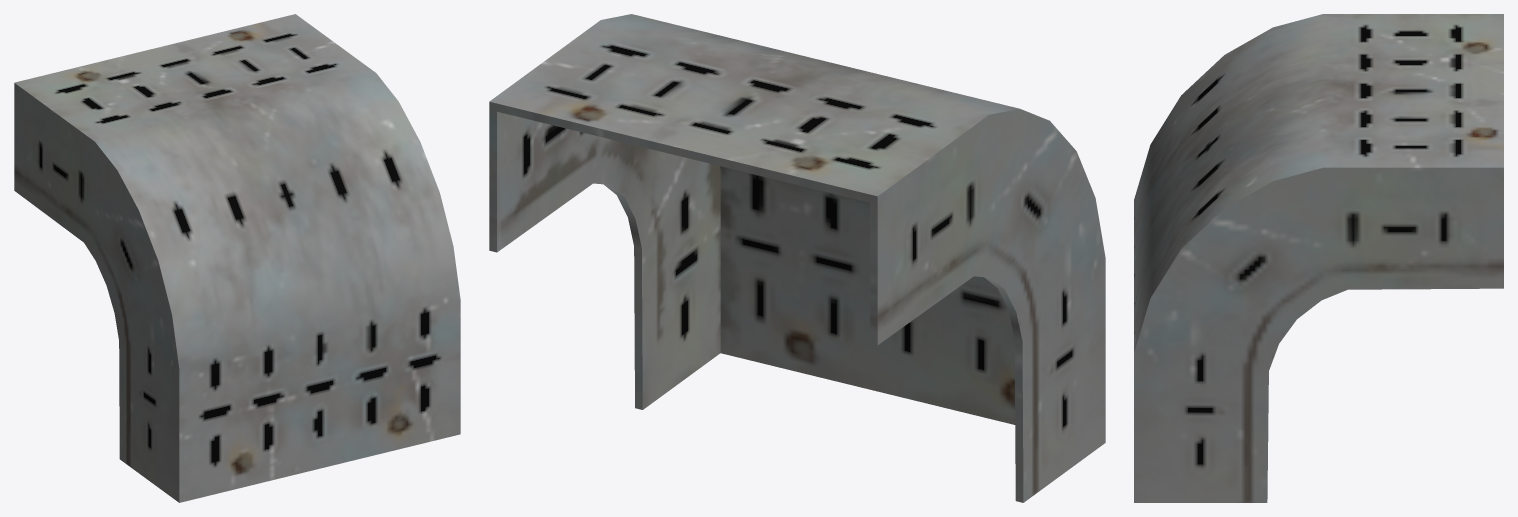
The model's file is CableTray_06a_snaps019.fbx.
3 renders of one model, left to right at view 1: azimuth 30°, elevation 25°; view 2: azimuth 150°, elevation 25°; view 3: azimuth 270°, elevation 25°, orthographic. The views are drawn at different scales.
Visible parts, largest first — view 1: CableTray_06a_snaps019_LOD0; view 2: CableTray_06a_snaps019_LOD0; view 3: CableTray_06a_snaps019_LOD0.
Boxes of the visible parts, x1=… form: CableTray_06a_snaps019_LOD0: x1=14, y1=14, x2=460, y2=502; CableTray_06a_snaps019_LOD0: x1=489, y1=14, x2=1105, y2=502; CableTray_06a_snaps019_LOD0: x1=1134, y1=14, x2=1503, y2=502.
Size of what is drawn, in the model's own units: 15 by 15.25 by 15.25.
